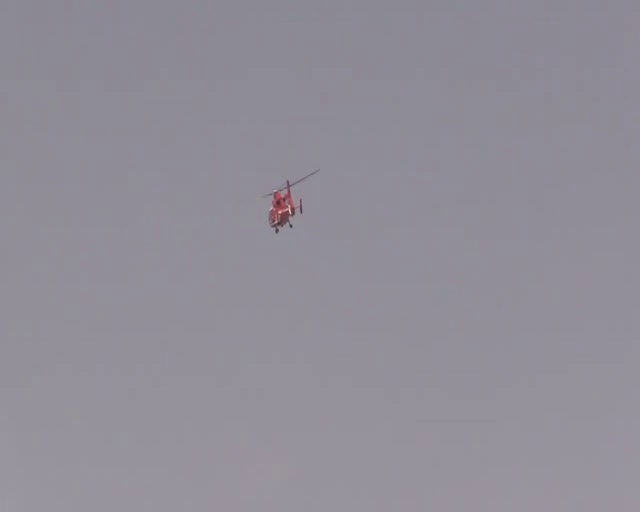HELICOPTER: (259, 167, 320, 233)
